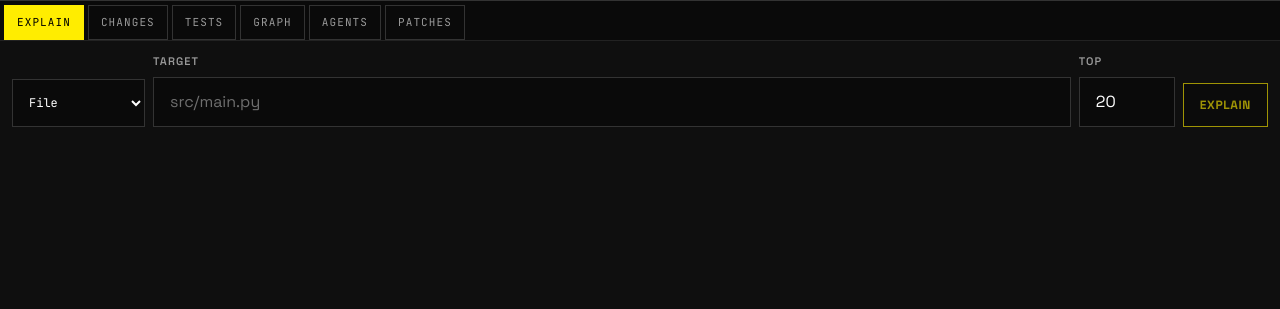
Test: DeveloperPanel (developer intelligence) › analyzes changes for a specific commit
Click the tab "Changes": (128, 22) [88,5,168,40]
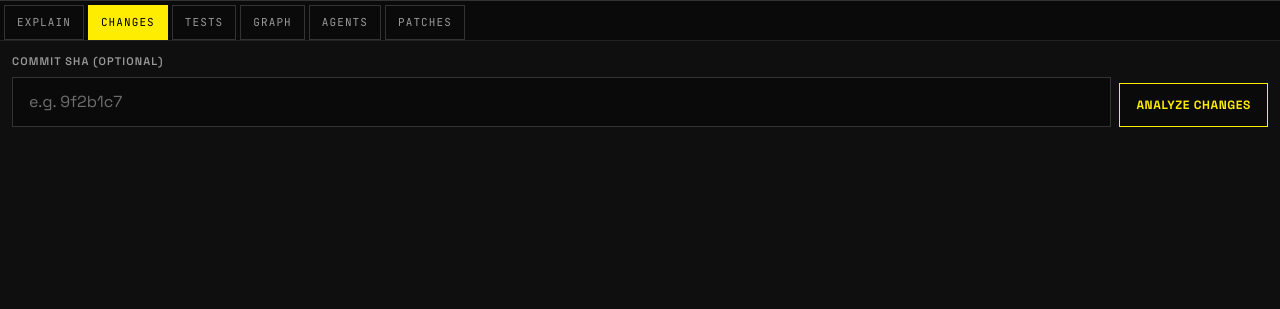
In the field labelled "Commit SHA (optional)": (562, 102) [12,76,1111,126], type "abc123"
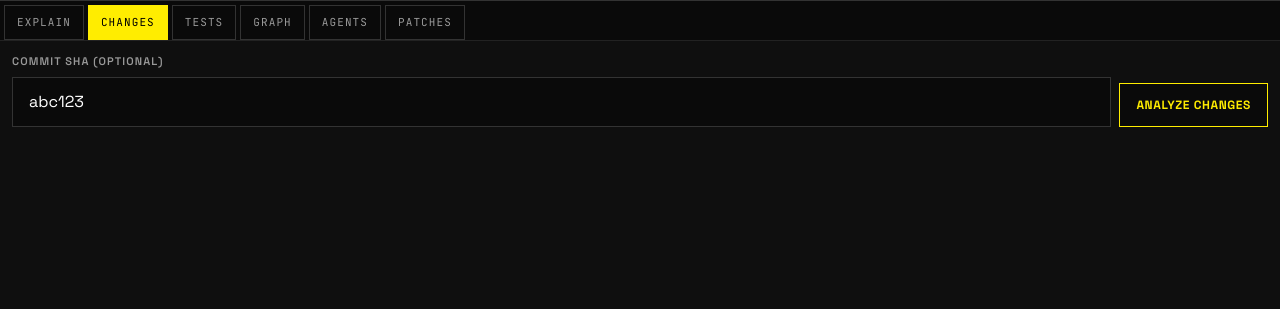
Click the button "Analyze changes": (1194, 104) [1119,82,1268,126]
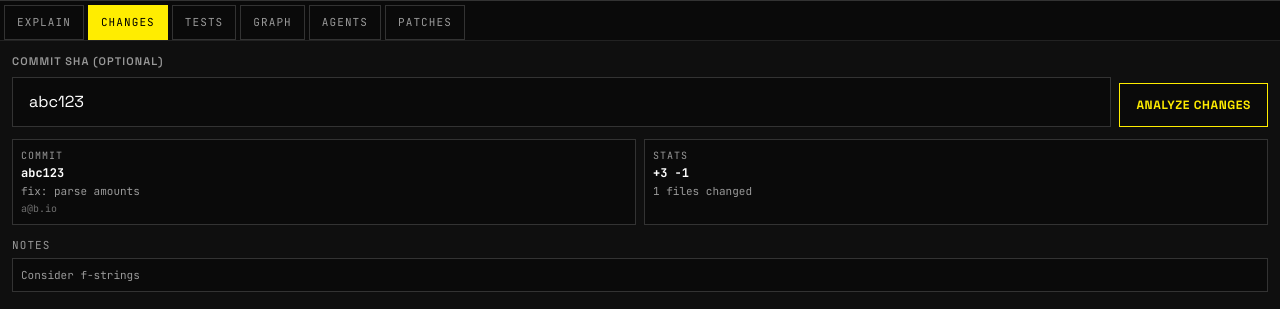
Now the text "fix: parse amounts" is shown, box [21,184,140,198]
Now the text "+3 −1" is shown, box [653,164,689,180]
Now the list item "Consider f-strings" is shown, box [12,258,1268,292]
